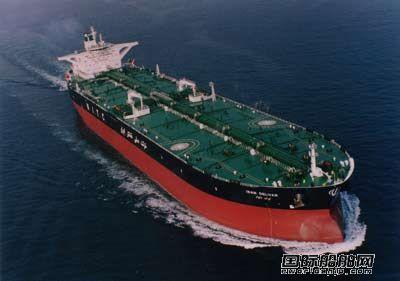Cargoship: (55, 22, 356, 245)
